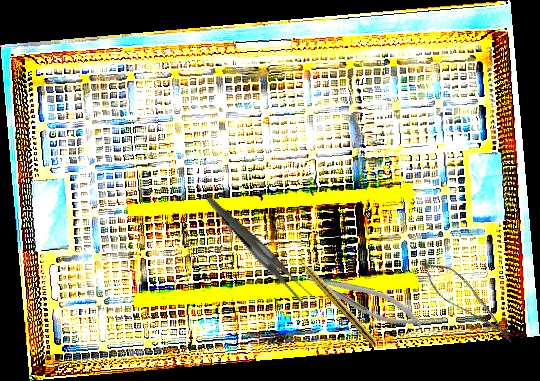Dressing Forceps: (206, 175, 316, 325)
Handpiece: (295, 254, 379, 346)
Micro Scissor: (411, 250, 525, 351)
Needle Holder: (298, 258, 427, 338)
